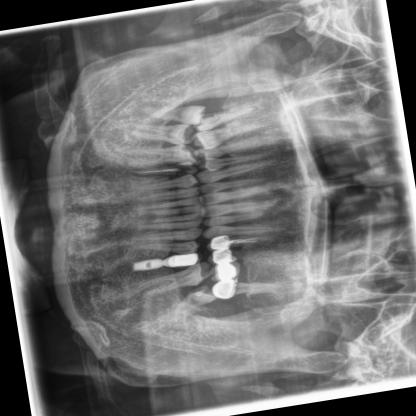Bicon: (128, 256, 160, 274)
